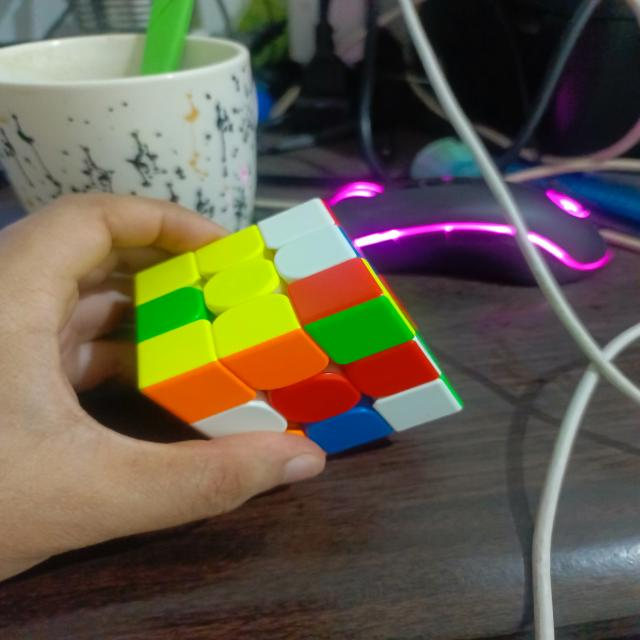rubik: (130, 196, 465, 456)
